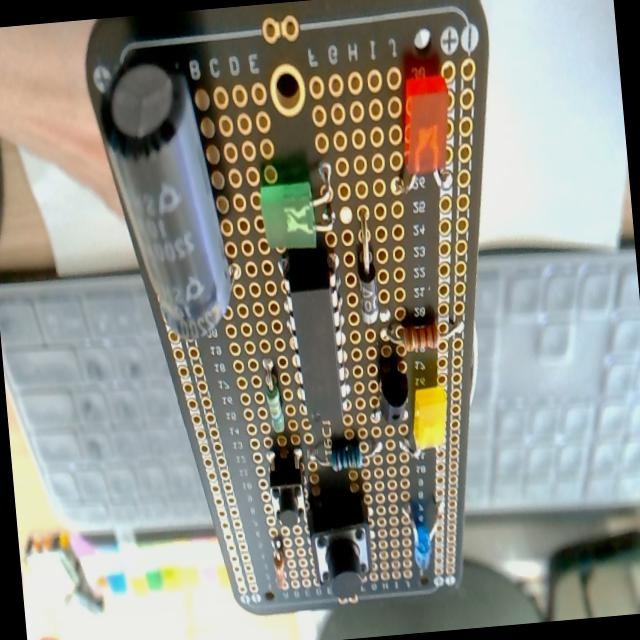IC: (96, 46, 250, 326), (277, 260, 354, 433)
diode: (346, 195, 386, 341)
led: (384, 44, 465, 204), (254, 147, 347, 256), (395, 373, 455, 459), (404, 490, 454, 580)
resistor: (377, 301, 471, 352), (250, 348, 286, 442), (308, 428, 387, 468), (266, 524, 294, 596)
switch: (308, 496, 382, 602), (268, 466, 310, 530)
transistor: (362, 353, 417, 427)
